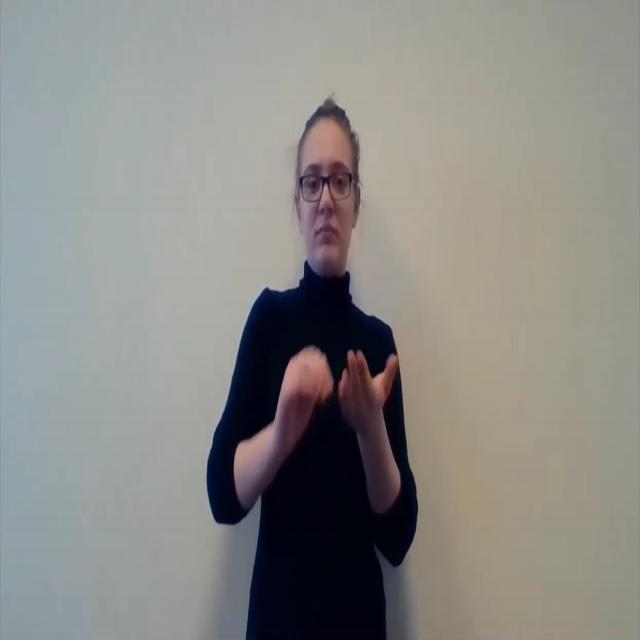ExcuseMe: (206, 51, 424, 630)
